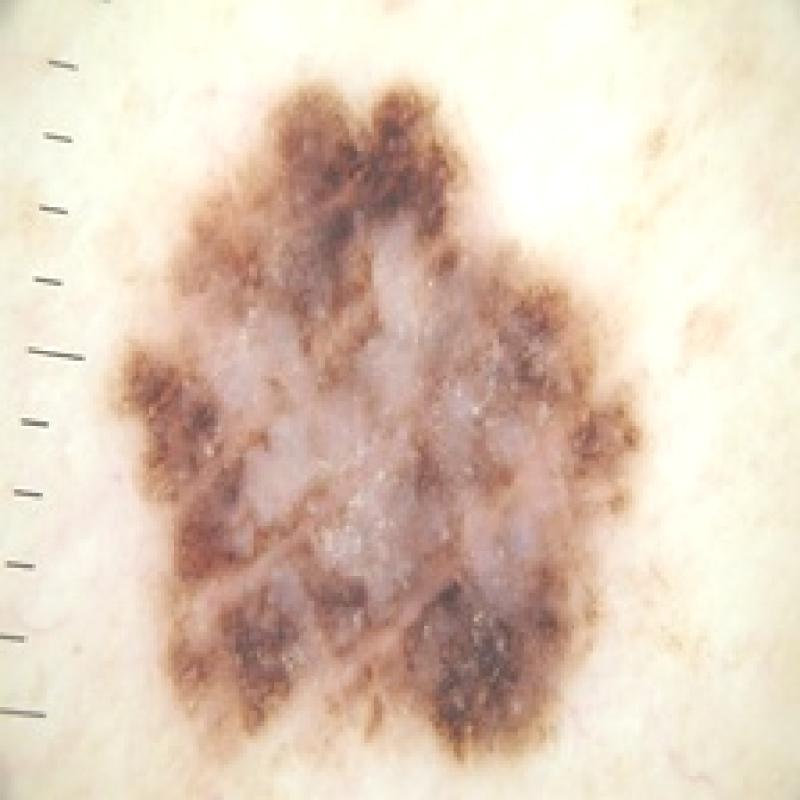malignant: (72, 50, 681, 800)
